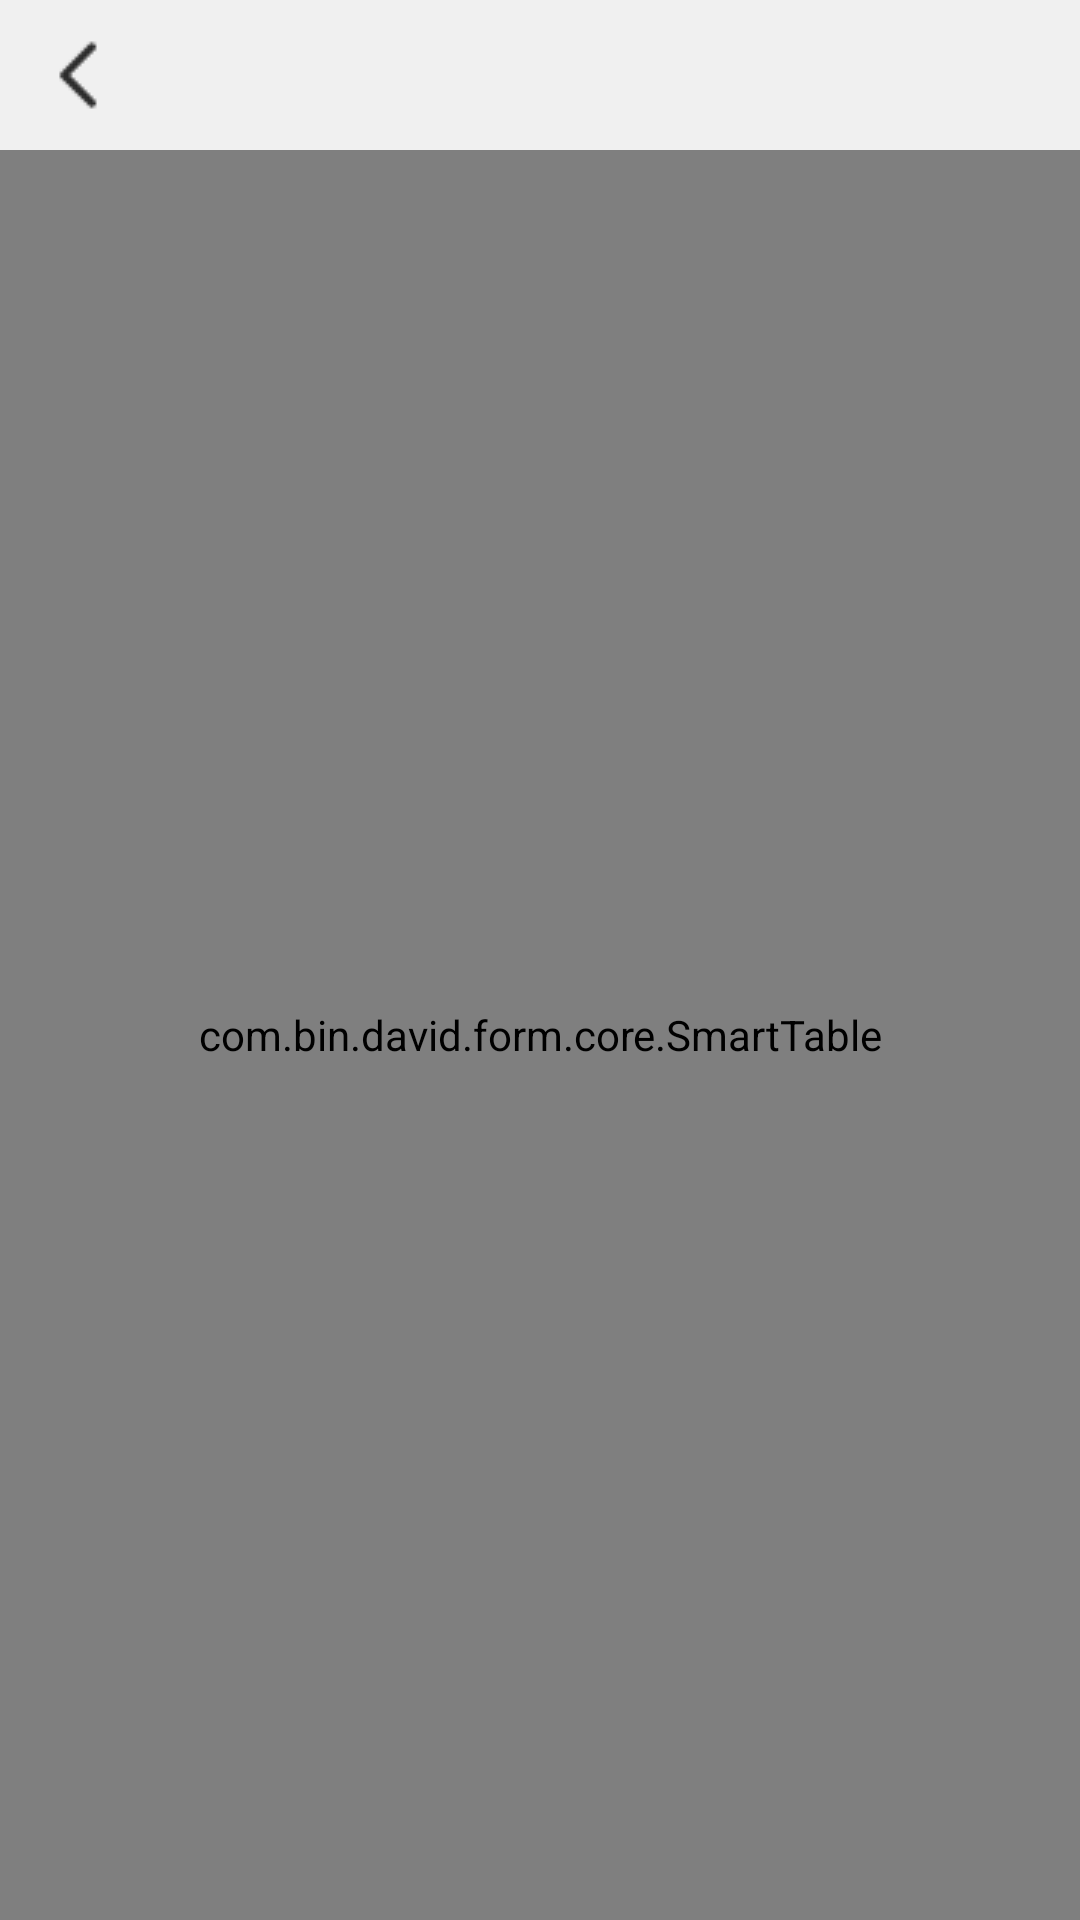

Screen size 1080w x 1920h. Icon name, then its center in pixels as [x,y]:
back: [78,75]
